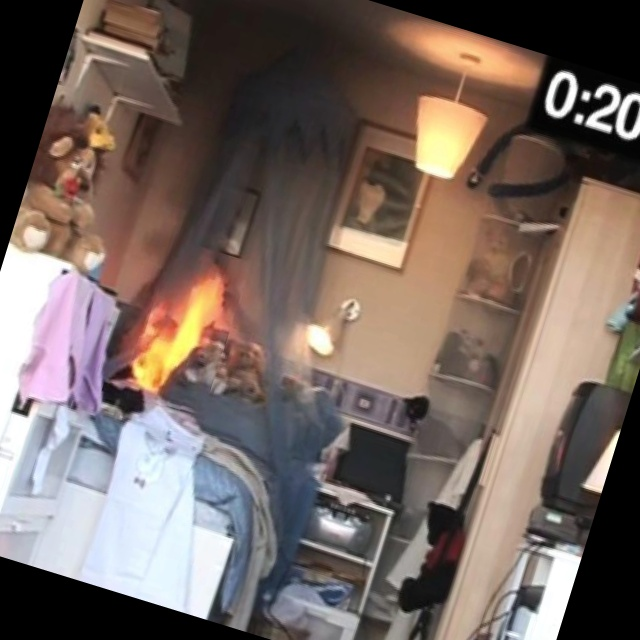fire: (95, 244, 259, 426)
